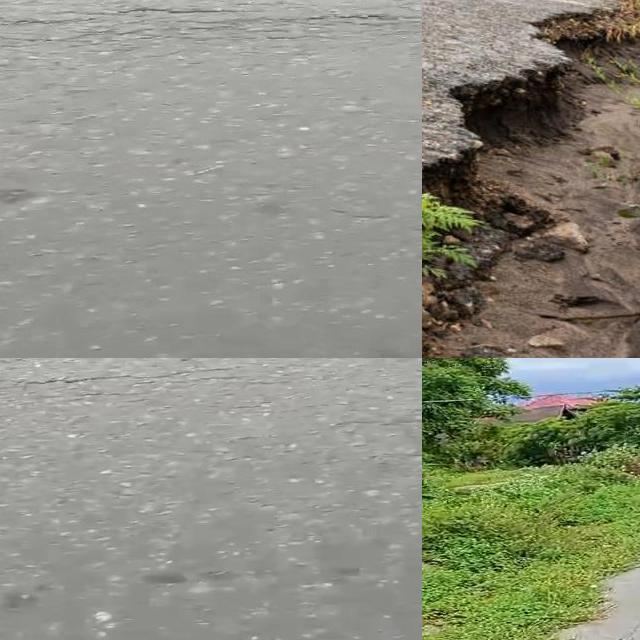Pinggir: (422, 0, 636, 294)
